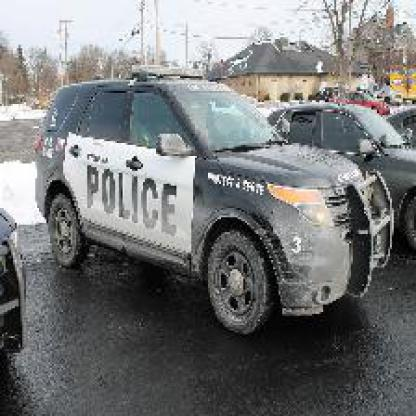emergency: (33, 63, 394, 346)
